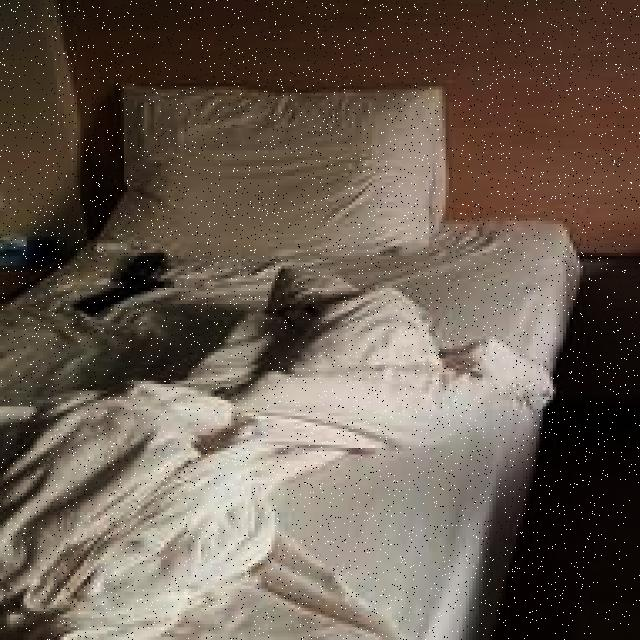bed: (2, 81, 578, 640)
